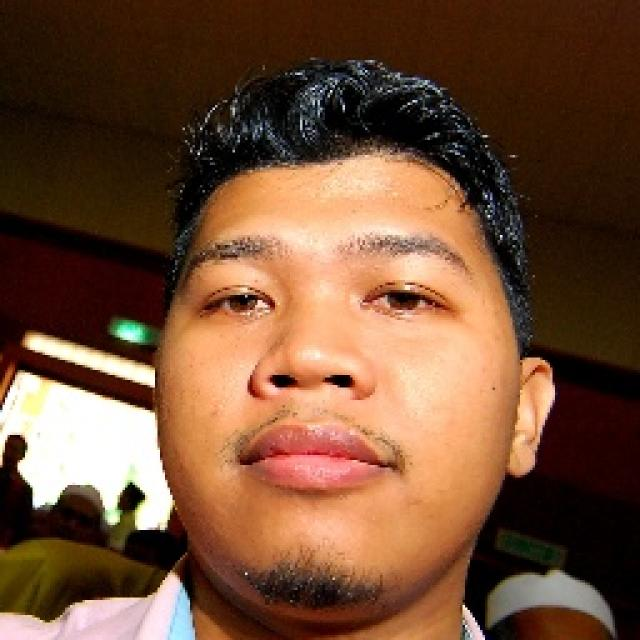earlobe: (504, 357, 556, 477)
